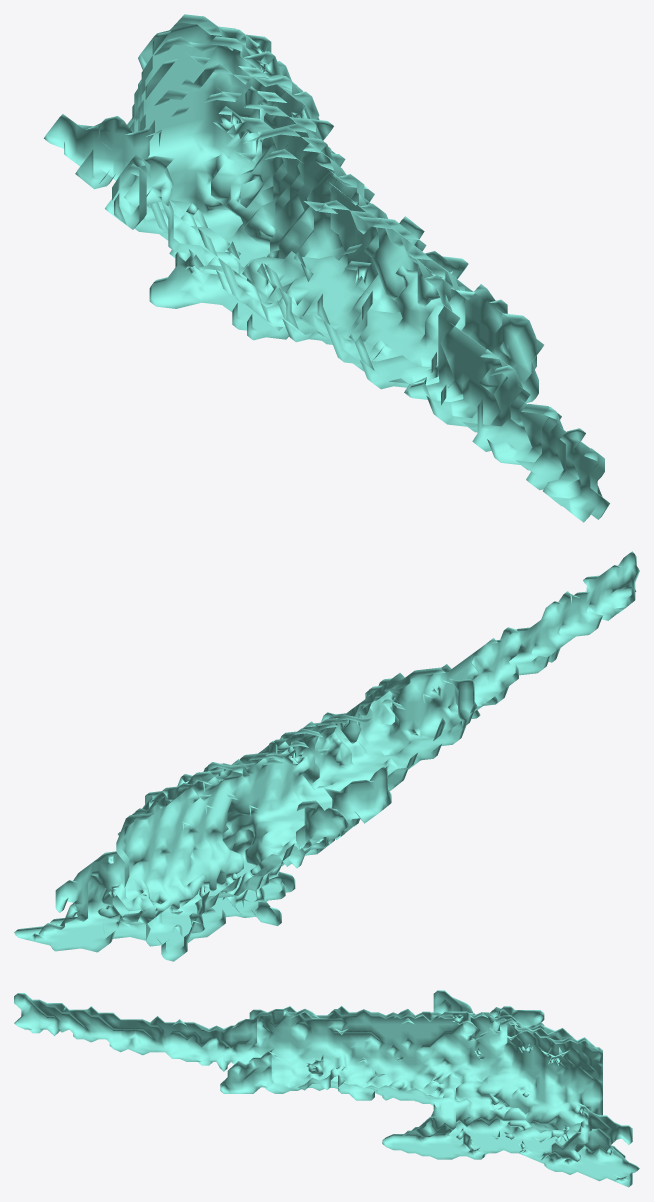
Rendered from osteocyte_26.glb.
The picture shows the model from 3 angles, top to bottom: view 1: azimuth 30°, elevation 25°; view 2: azimuth 150°, elevation 25°; view 3: azimuth 270°, elevation 25°; orthographic projection. The views are drawn at different scales.
Parts seen in each view (by area): view 1: osteocyte_26; view 2: osteocyte_26; view 3: osteocyte_26.
Part boxes in pixels (box(x1,y1,x2,y2)): osteocyte_26: box(44, 14, 609, 522); osteocyte_26: box(14, 551, 639, 961); osteocyte_26: box(14, 990, 639, 1187).
Bounding box in the file's own units: 14.93 × 8.67 × 40.93.
